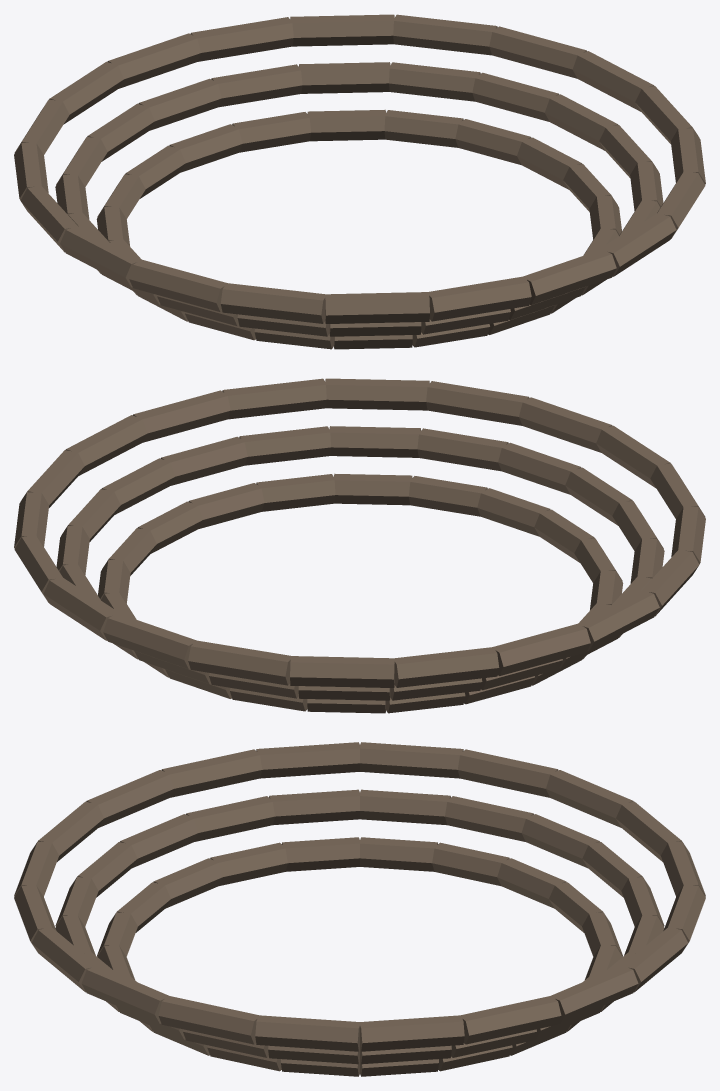
Rendered from rope_coil.glb.
3 views of the same model, one above another, from view 1: azimuth 30°, elevation 25°; view 2: azimuth 150°, elevation 25°; view 3: azimuth 270°, elevation 25° (orthographic).
Parts seen in each view (by area): view 1: Body.059; view 2: Body.059; view 3: Body.059.
Boxes of the visible parts, <box> form: Body.059: <box>14,14,705,349</box>; Body.059: <box>14,378,705,713</box>; Body.059: <box>14,742,705,1076</box>.
Size of the model in its own units: 0.8356 by 0.1112 by 0.8356.
